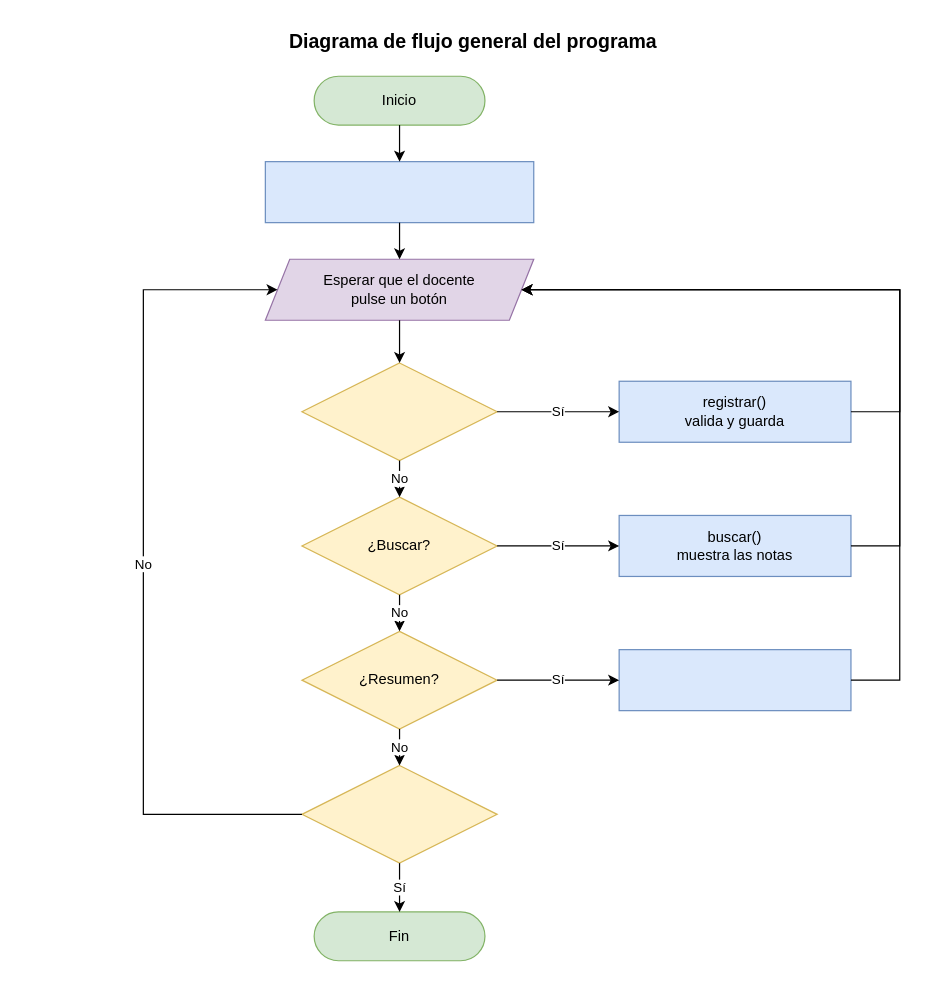
The diagram is 944 pixels wide and 982 high, and some of its shapes have lost their labels. The centre of each missing label's shape, as x and y in pixels:
Crear la ventana y la lista vacía de estudiantes: [399,191]
ver_resumen() calcula datos del curso: [734,679]
¿Cerrar ventana?: [399,813]
¿Registrar?: [399,411]
